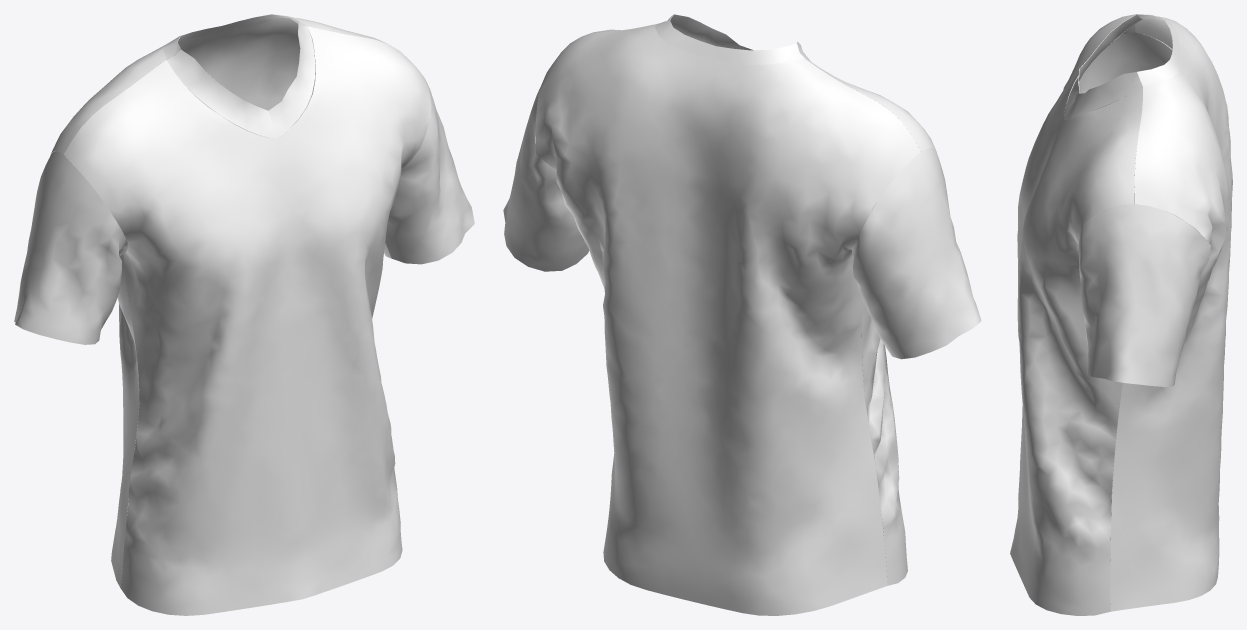
File: sahrul-jersey.glb
3 renders of one model, left to right at view 1: azimuth 30°, elevation 25°; view 2: azimuth 150°, elevation 25°; view 3: azimuth 270°, elevation 25°, orthographic. The views are drawn at different scales.
Parts seen in each view (by area): view 1: front_Node, sleeve_Node (×2), back_Node, collar_Node, Collar_Node, back collar_Node; view 2: back_Node, sleeve_Node (×2), front_Node, back collar_Node, Collar_Node; view 3: front_Node, back_Node, sleeve_Node (×2), Collar_Node, back collar_Node, collar_Node.
Part boxes in pixels (x1,y1,x2,y2): front_Node: (64, 26, 431, 615); sleeve_Node (×2): (14, 79, 474, 344); back_Node: (50, 17, 387, 587); collar_Node: (166, 49, 276, 138); Collar_Node: (268, 22, 315, 138); back collar_Node: (163, 14, 306, 59); back_Node: (535, 23, 920, 615); sleeve_Node (×2): (503, 73, 981, 359); front_Node: (584, 29, 935, 585); back collar_Node: (655, 14, 804, 64); Collar_Node: (670, 14, 754, 50); front_Node: (1010, 14, 1142, 615); back_Node: (1110, 16, 1232, 611); sleeve_Node (×2): (1078, 32, 1210, 386); Collar_Node: (1063, 72, 1142, 119); back collar_Node: (1137, 14, 1179, 86); collar_Node: (1063, 14, 1142, 117).
Bounding box in the file's own units: 0.6057 × 0.6635 × 0.2606.
1 material, 1 textured.
